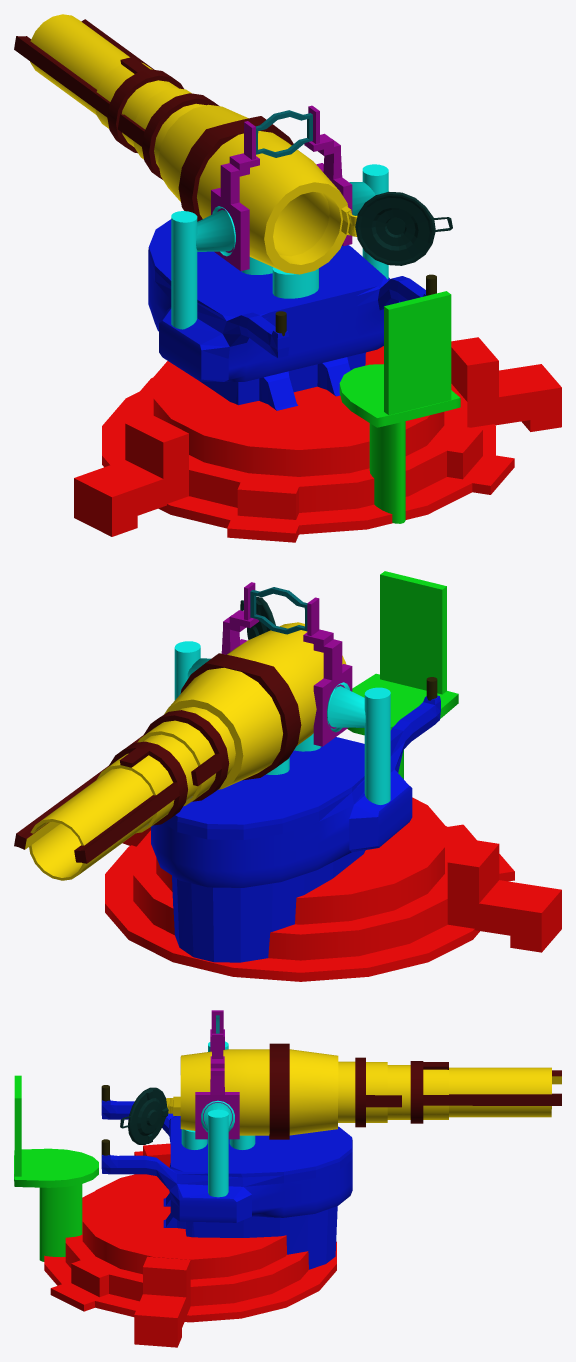
Rendered from FYP_Cannon.FBX.
3 views of the same model, one above another, from view 1: azimuth 30°, elevation 25°; view 2: azimuth 150°, elevation 25°; view 3: azimuth 270°, elevation 25° (orthographic). The views are drawn at different scales.
Visible parts, largest first — view 1: CannonBase, Cannon, CannonUpperBase, CannonChair, CannonUpperHolder, CannonReloadCover, CannonIronSightHolder, CannonIronSight; view 2: CannonBase, CannonUpperBase, Cannon, CannonChair, CannonUpperHolder, CannonIronSightHolder, CannonIronSight, CannonReloadCover; view 3: CannonBase, Cannon, CannonUpperBase, CannonChair, CannonUpperHolder, CannonIronSightHolder, CannonReloadCover.
Part boxes in pixels (<box>): CannonBase: <box>74,337,561,542</box>; Cannon: <box>14,14,357,274</box>; CannonUpperBase: <box>148,219,426,410</box>; CannonChair: <box>339,291,460,523</box>; CannonUpperHolder: <box>171,164,388,329</box>; CannonReloadCover: <box>355,191,452,265</box>; CannonIronSightHolder: <box>211,105,352,271</box>; CannonIronSight: <box>256,110,312,157</box>; CannonBase: <box>105,797,561,981</box>; CannonUpperBase: <box>151,695,440,962</box>; Cannon: <box>14,622,346,880</box>; CannonChair: <box>347,571,458,779</box>; CannonUpperHolder: <box>174,641,390,804</box>; CannonIronSightHolder: <box>221,582,352,746</box>; CannonIronSight: <box>250,587,307,634</box>; CannonReloadCover: <box>240,596,275,639</box>; CannonBase: <box>44,1143,336,1347</box>; Cannon: <box>166,1043,561,1139</box>; CannonUpperBase: <box>101,1099,352,1269</box>; CannonChair: <box>14,1075,98,1261</box>; CannonUpperHolder: <box>181,1041,255,1197</box>; CannonIronSightHolder: <box>195,1010,239,1139</box>; CannonReloadCover: <box>120,1087,168,1144</box>.
Bounding box in the file's own units: 4.58 × 3.06 × 6.25.
